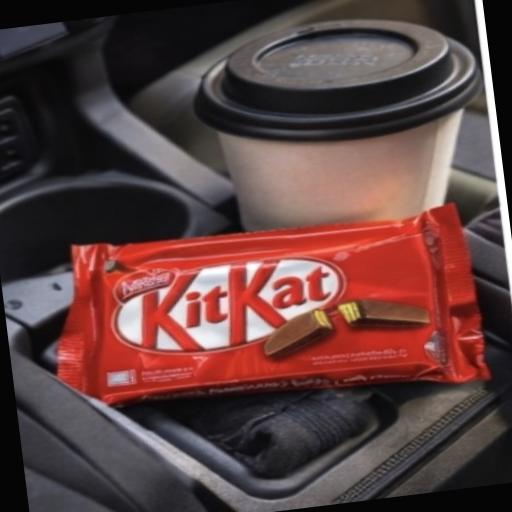kitkat: (0, 139, 512, 479)
